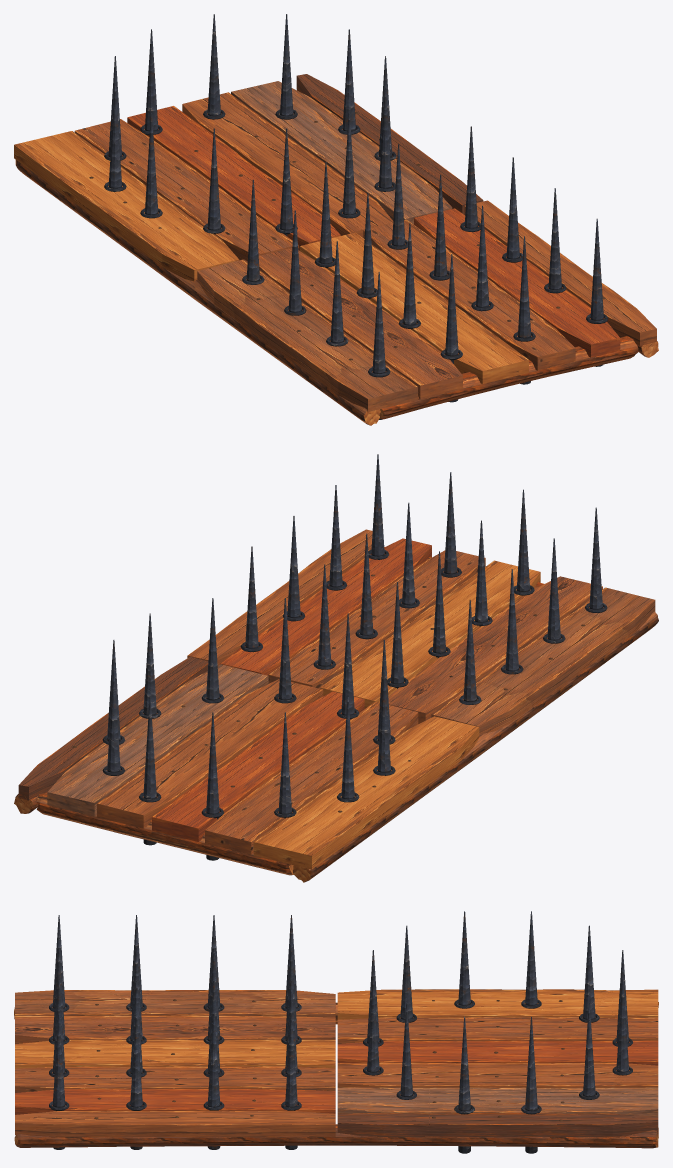
File: trap_chest_spikes.glb
3 renders of one model, top to bottom at view 1: azimuth 30°, elevation 25°; view 2: azimuth 150°, elevation 25°; view 3: azimuth 270°, elevation 25°, orthographic. The views are drawn at different scales.
Visible parts, largest first — view 1: floor, spikes; view 2: floor, spikes; view 3: floor, spikes.
Part boxes in pixels (left/top/right/bottom): floor: left=14, top=74, right=658, bottom=425; spikes: left=108, top=14, right=603, bottom=419; floor: left=14, top=529, right=658, bottom=882; spikes: left=107, top=454, right=602, bottom=860; floor: left=14, top=989, right=658, bottom=1148; spikes: left=52, top=911, right=628, bottom=1153.
Size of the model in its own units: 1.99 by 0.918 by 4.
Materials: 25 (25 with a texture image).
